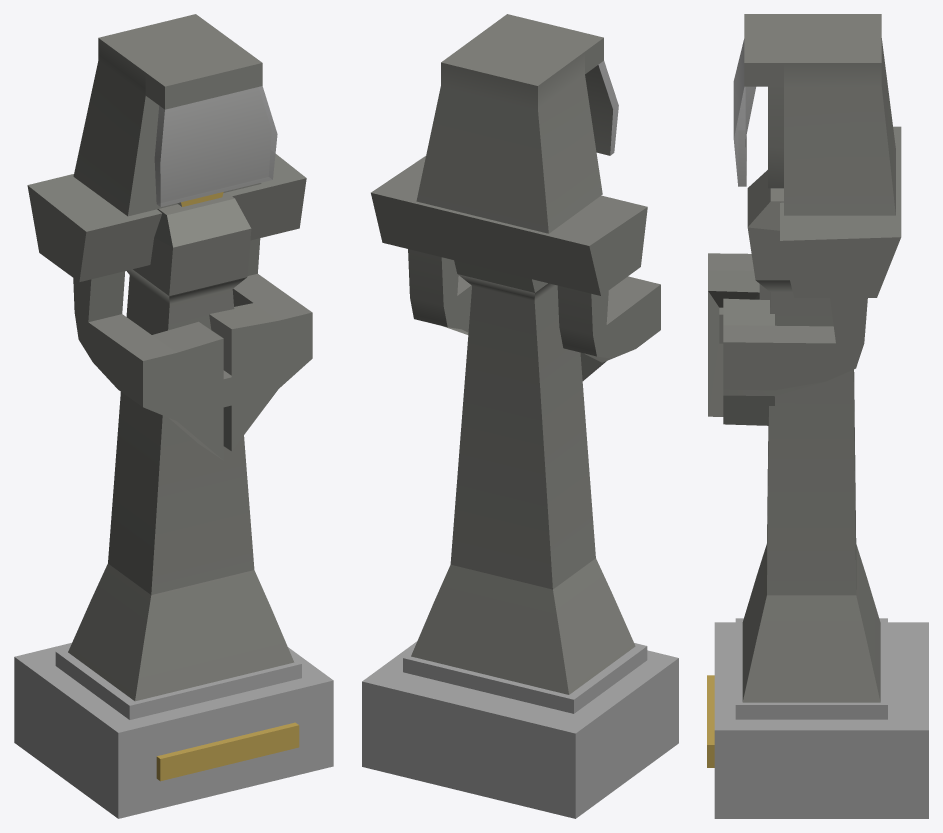
File: ChurchStatueMystra.fbx
3 renders of one model, left to right at view 1: azimuth 30°, elevation 25°; view 2: azimuth 150°, elevation 25°; view 3: azimuth 270°, elevation 25°, orthographic. The views are drawn at different scales.
Visible parts, largest first — view 1: polySurface161; view 2: polySurface161; view 3: polySurface161.
Part boxes in pixels (x1=…): polySurface161: x1=14, y1=14, x2=333, y2=818; polySurface161: x1=362, y1=14, x2=678, y2=818; polySurface161: x1=707, y1=14, x2=928, y2=818.
Bounding box in the file's own units: 0.3259 × 0.9992 × 0.2762.
